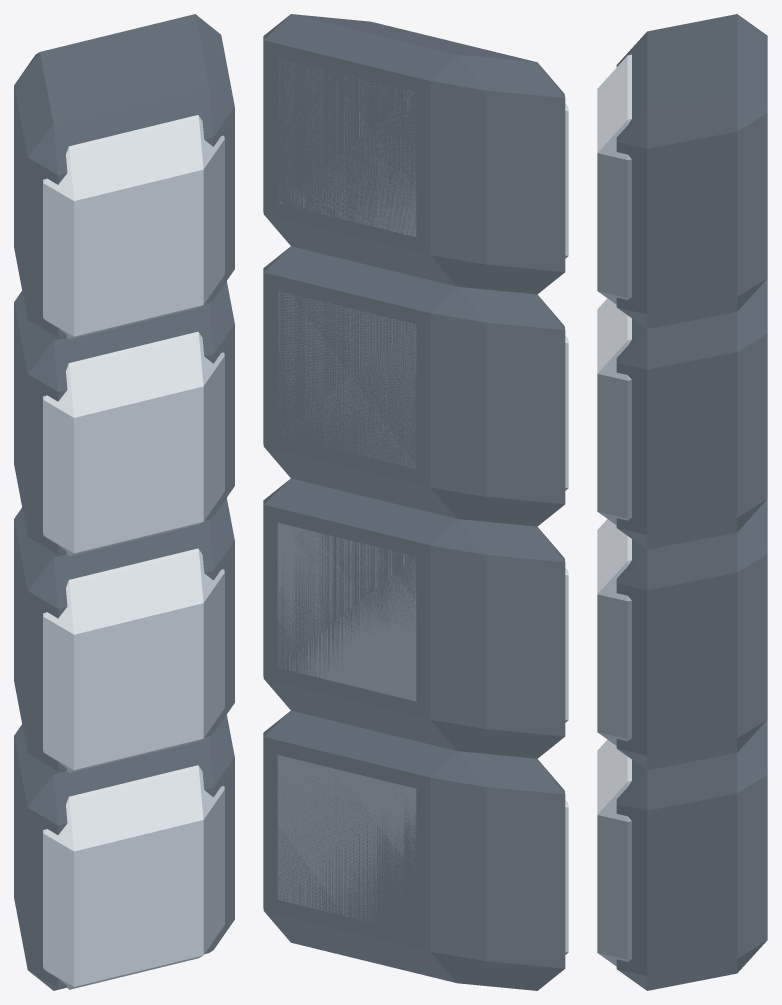
The model's file is Terrain_Block1x4.gltf.
3 views of the same model, side by side, from view 1: azimuth 30°, elevation 25°; view 2: azimuth 150°, elevation 25°; view 3: azimuth 270°, elevation 25° (orthographic). The views are drawn at different scales.
Visible parts, largest first — view 1: Terrain_Block1x4_baked; view 2: Terrain_Block1x4_baked; view 3: Terrain_Block1x4_baked.
Boxes of the visible parts, bbox=[...] form: Terrain_Block1x4_baked: bbox=[14, 14, 234, 990]; Terrain_Block1x4_baked: bbox=[263, 14, 568, 990]; Terrain_Block1x4_baked: bbox=[597, 14, 767, 990].
Size of the model in its own units: 1.15 by 4.15 by 0.7.
